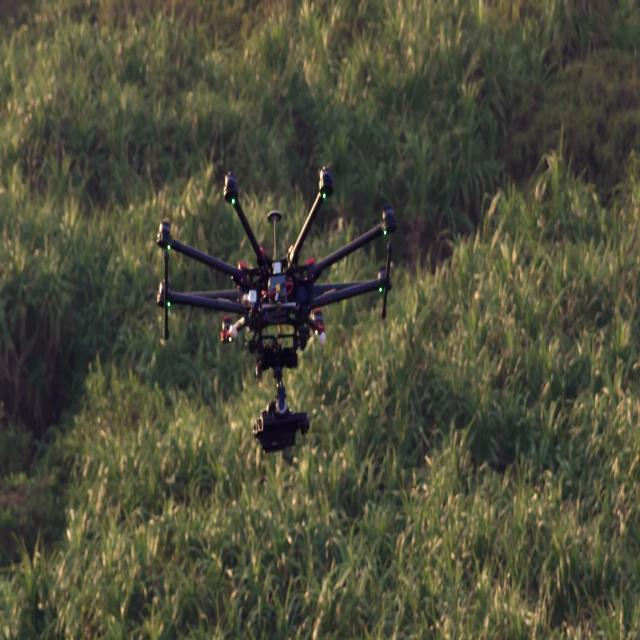drone: (128, 107, 432, 455)
